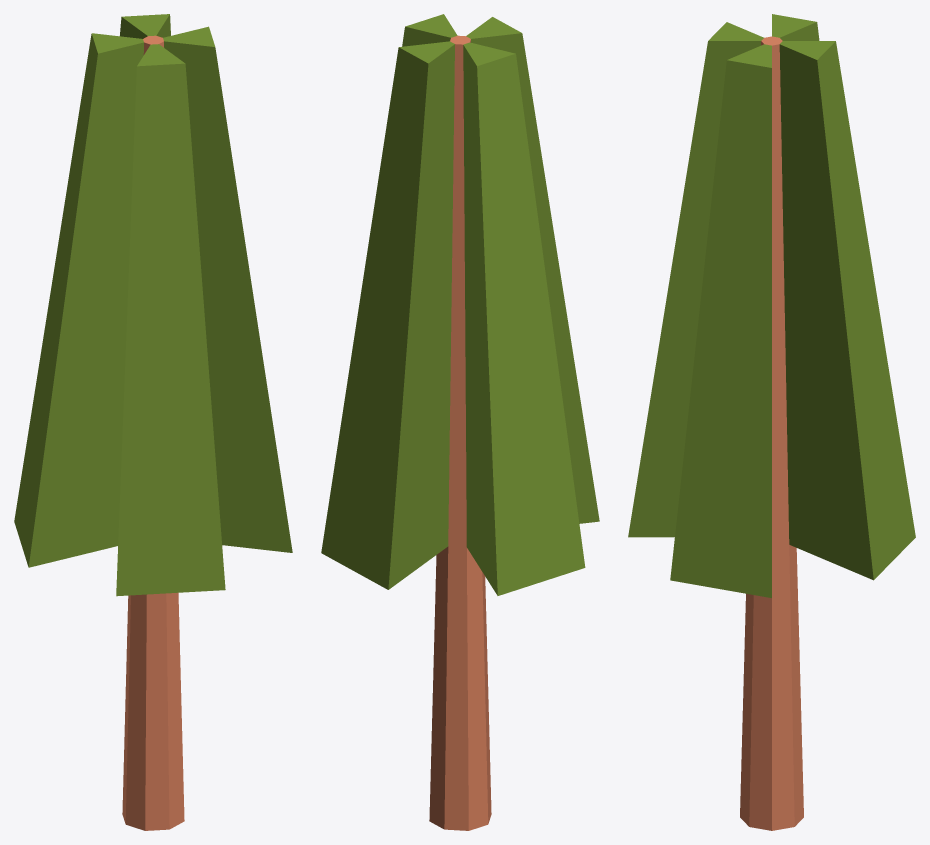
The model's file is Tree_28_autumn.fbx.
The picture shows the model from 3 angles, left to right: view 1: azimuth 30°, elevation 25°; view 2: azimuth 150°, elevation 25°; view 3: azimuth 270°, elevation 25°; orthographic projection.
Parts seen in each view (by area): view 1: Tree_28_autumn; view 2: Tree_28_autumn; view 3: Tree_28_autumn.
Part boxes in pixels (x1,y1,x2,y2): Tree_28_autumn: (14,14,292,830); Tree_28_autumn: (321,14,599,830); Tree_28_autumn: (628,14,915,830).
Size of the model in its own units: 98.97 by 294 by 98.97.
